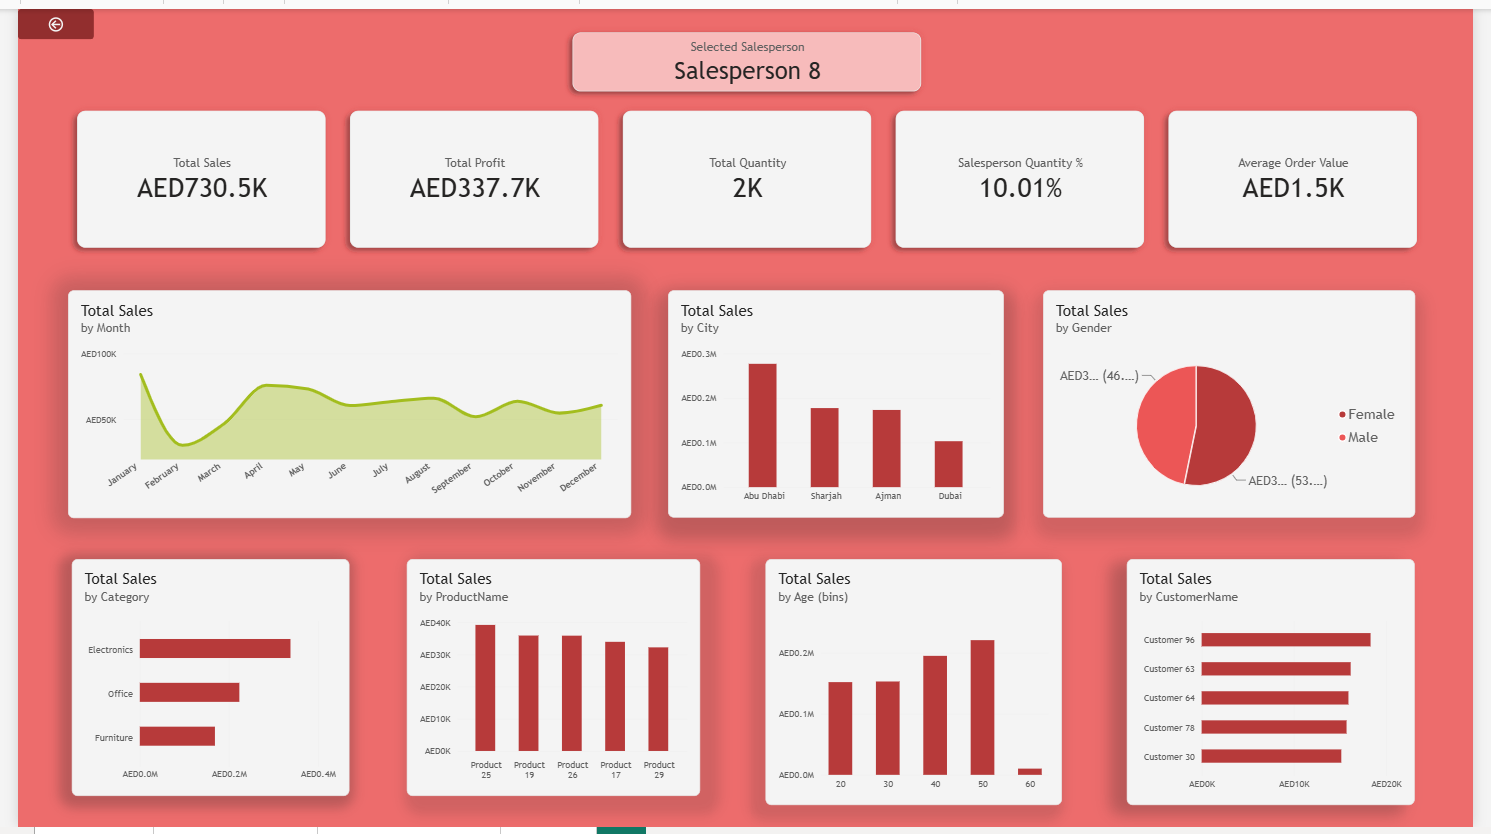

The dashboard page shown, as its layout file describes it:
{"tool":"powerbi","page":{"name":"Salesperson Details","canvas":[1920,1080],"ordinal":2},"visuals":[{"type":"actionButton","box":[0,0,100,40],"z":0},{"type":"cardVisual","fields":{"Data":["Measure Table.Total Sales","Measure Table.Total Profit","Measure Table.Total Quantity","Measure Table.Salesperson Quantity %","Measure Table.Average Order Value"]},"box":[65.9,121.4,1792.8,205.8],"z":1},{"type":"cardVisual","fields":{"Data":["Measure Table.Selected Salesperson"]},"box":[720.4,20.6,482.1,100],"z":4},{"type":"lineChart","fields":{"Category":["Date Table.Month"],"Y":["Measure Table.Total Sales"]},"box":[65.9,370.5,743.1,300.5],"z":5},{"type":"clusteredBarChart","fields":{"Category":["Products.Category"],"Y":["Measure Table.Total Sales"]},"box":[71.4,725,366.1,312.5],"z":6},{"type":"columnChart","fields":{"Category":["Customers.City"],"Y":["Measure Table.Total Sales"]},"box":[857.1,371.4,442.9,300],"z":7},{"type":"columnChart","fields":{"Category":["Customers.Age (bins)"],"Y":["Measure Table.Total Sales"]},"box":[985.7,725,391.1,325],"z":8},{"type":"pieChart","fields":{"Category":["Customers.Gender"],"Y":["Measure Table.Total Sales"]},"box":[1351.8,371.4,491.1,300],"z":9},{"type":"columnChart","fields":{"Category":["Products.ProductName"],"Y":["Measure Table.Total Sales"]},"box":[512.5,725,387.5,312.5],"z":10},{"type":"actionButton","box":[0,0,100,40],"z":11},{"type":"clusteredBarChart","fields":{"Category":["Customers.CustomerName"],"Y":["Measure Table.Total Sales"]},"box":[1462.5,725,380.4,325],"z":12}]}

Visuals, with their boxes in screenshot pixels (x1, y1, x2, y2), scaled from the page's 1920x1080 canvas onto the 1491x834 screenshot:
actionButton: locate(0, 0, 78, 31)
cardVisual - Measure Table.Total Sales x Measure Table.Total Profit: locate(51, 94, 1443, 253)
cardVisual - Measure Table.Selected Salesperson: locate(559, 16, 934, 93)
lineChart - Date Table.Month x Measure Table.Total Sales: locate(51, 286, 628, 518)
clusteredBarChart - Products.Category x Measure Table.Total Sales: locate(55, 560, 340, 801)
columnChart - Customers.City x Measure Table.Total Sales: locate(666, 287, 1010, 518)
columnChart - Customers.Age (bins) x Measure Table.Total Sales: locate(765, 560, 1069, 811)
pieChart - Customers.Gender x Measure Table.Total Sales: locate(1050, 287, 1431, 518)
columnChart - Products.ProductName x Measure Table.Total Sales: locate(398, 560, 699, 801)
actionButton: locate(0, 0, 78, 31)
clusteredBarChart - Customers.CustomerName x Measure Table.Total Sales: locate(1136, 560, 1431, 811)
